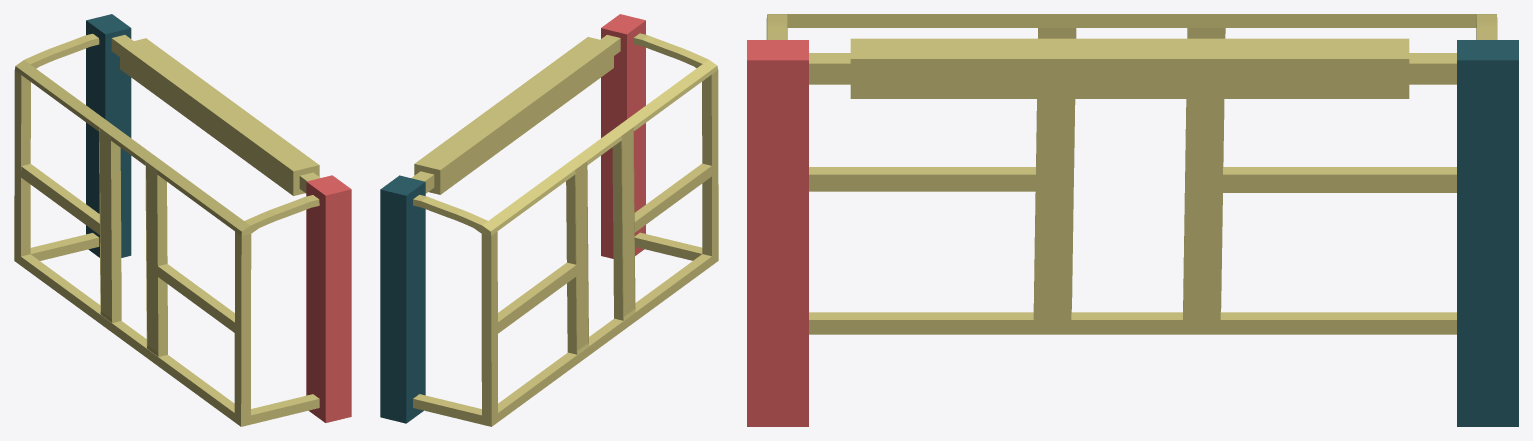
The model's file is but.fbx.
The picture shows the model from 3 angles, left to right: view 1: azimuth 30°, elevation 25°; view 2: azimuth 150°, elevation 25°; view 3: azimuth 270°, elevation 25°; orthographic projection. The views are drawn at different scales.
Visible parts, largest first — view 1: goal; view 2: goal; view 3: goal.
Boxes of the visible parts, <box> form: goal: <box>14,14,351,426</box>; goal: <box>380,14,718,426</box>; goal: <box>747,14,1518,426</box>.
Size of the model in its own units: 428 by 894 by 1701.
